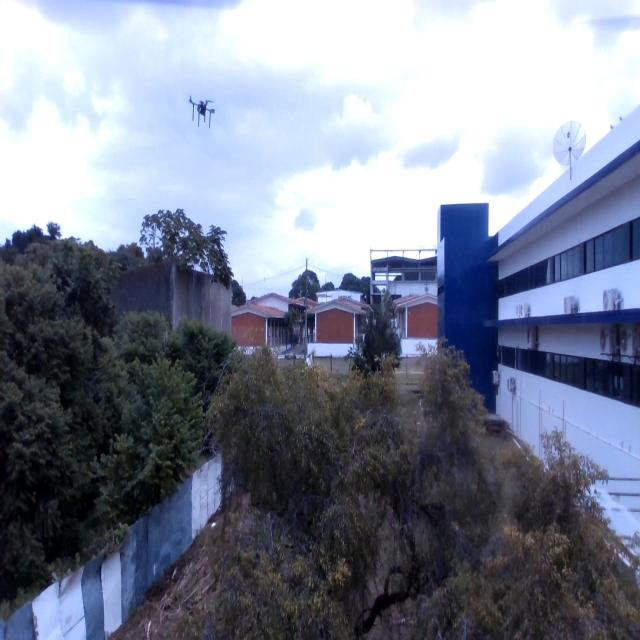-uav-: (177, 89, 226, 142)
